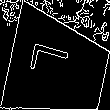L_E: (34, 46, 82, 89)
